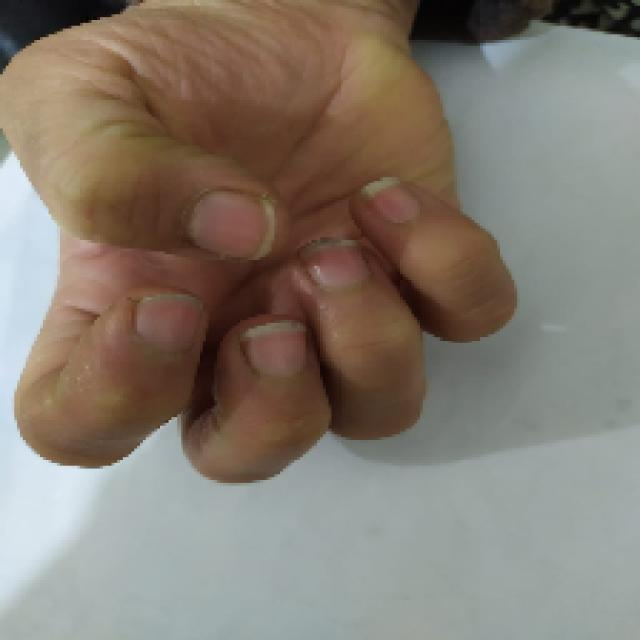Nail: (188, 191, 275, 259), (135, 294, 201, 351), (244, 320, 306, 377), (300, 239, 369, 289), (359, 176, 420, 223)
